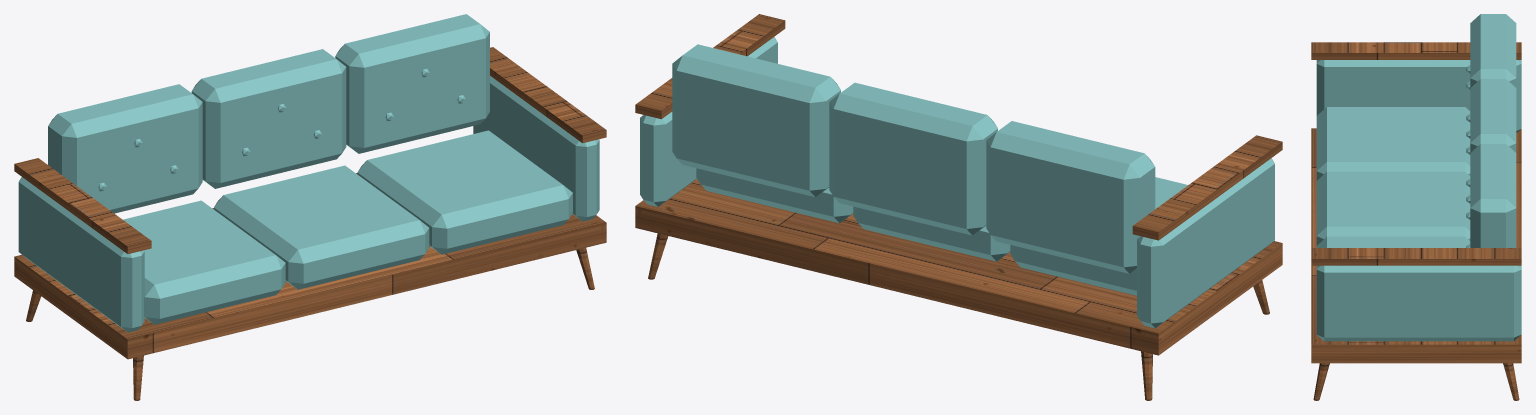
File: sofa_t.glb
The picture shows the model from 3 angles, left to right: view 1: azimuth 30°, elevation 25°; view 2: azimuth 150°, elevation 25°; view 3: azimuth 270°, elevation 25°; orthographic projection. The views are drawn at different scales.
Visible parts, largest first — view 1: sofa_t_fabric_t, sofa_t_teak; view 2: sofa_t_fabric_t, sofa_t_teak; view 3: sofa_t_fabric_t, sofa_t_teak.
Part boxes in pixels (x1=…): sofa_t_fabric_t: x1=18, y1=14, x2=599, y2=332; sofa_t_teak: x1=14, y1=47, x2=606, y2=400; sofa_t_fabric_t: x1=640, y1=37, x2=1274, y2=328; sofa_t_teak: x1=635, y1=14, x2=1282, y2=400; sofa_t_fabric_t: x1=1316, y1=14, x2=1521, y2=341; sofa_t_teak: x1=1311, y1=42, x2=1521, y2=400.
Size of the model in its own units: 2 by 0.82 by 0.82.
Materials: 2 (1 with a texture image).
